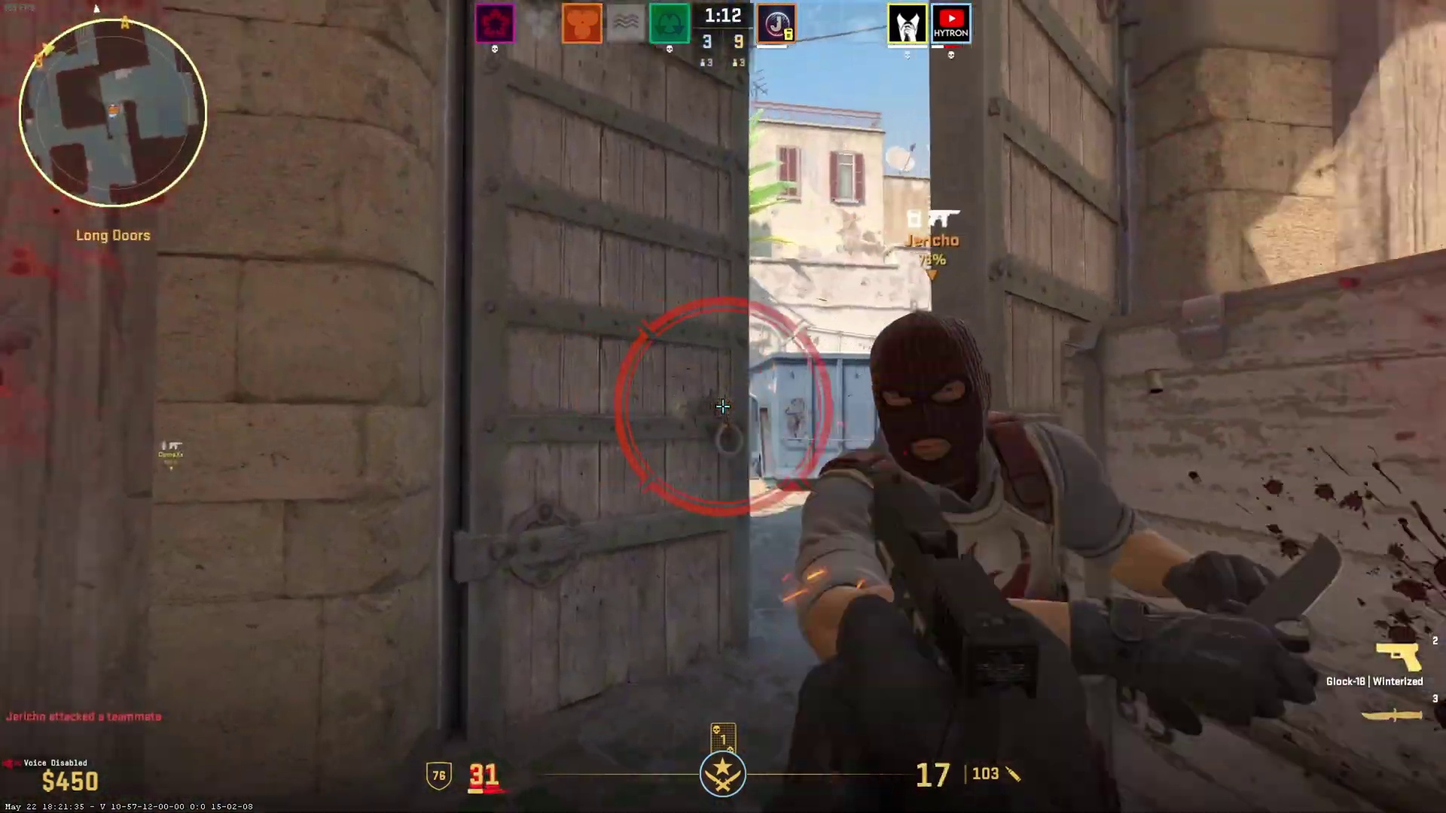Terrorist: (805, 326, 1175, 801)
